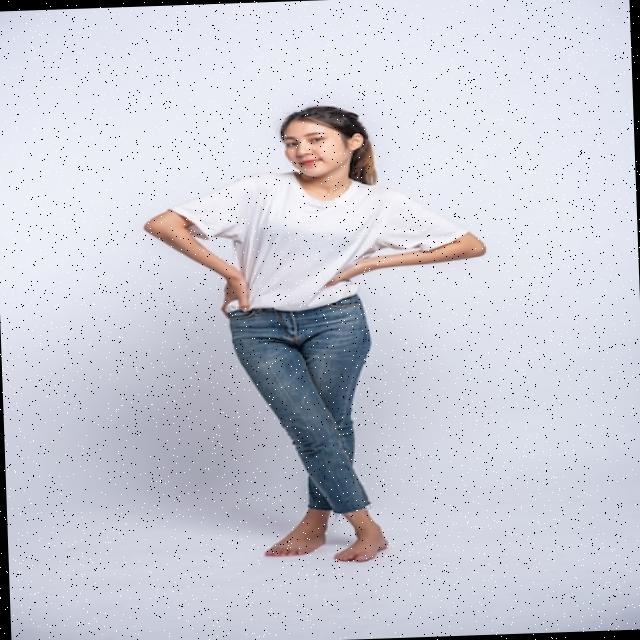Person: (140, 100, 497, 569)
